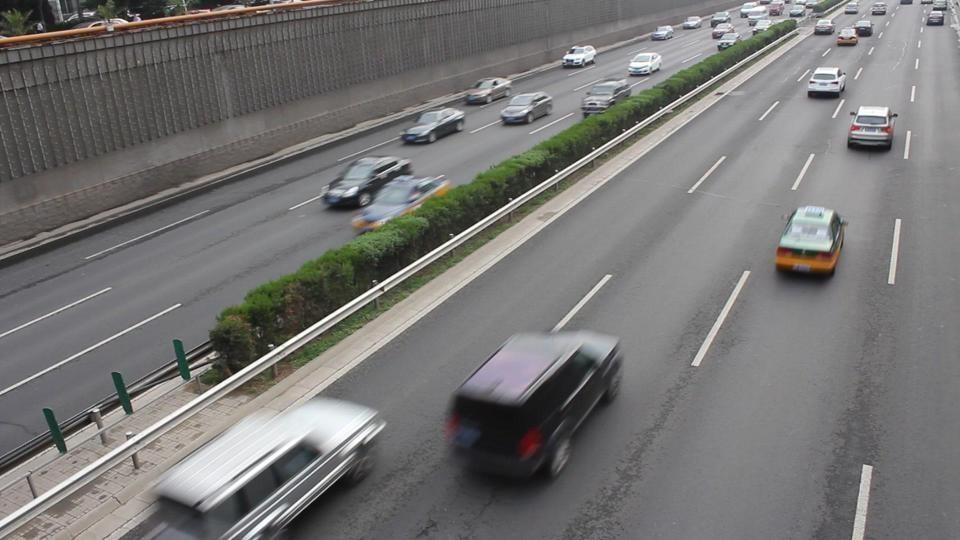car: (155, 395, 389, 538), (441, 328, 626, 483), (350, 173, 451, 235), (774, 205, 849, 277), (321, 154, 411, 210), (401, 109, 465, 146), (847, 104, 898, 150), (579, 79, 632, 118), (498, 91, 553, 126), (463, 77, 514, 106), (807, 66, 847, 98), (561, 44, 597, 68), (627, 52, 663, 76), (835, 24, 859, 46), (925, 6, 947, 26), (814, 18, 836, 34)
